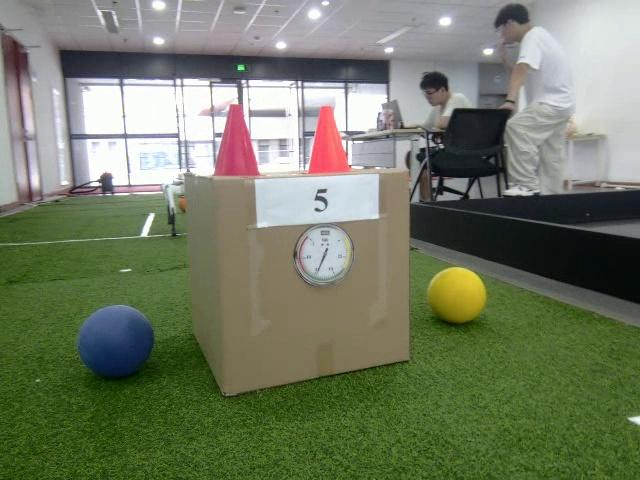5: (314, 188, 329, 214)
Dashboard: (292, 224, 354, 290)
blue_ball: (74, 306, 155, 379)
orange_barrel: (302, 105, 356, 176)
red_barrel: (212, 105, 263, 177)
ssi: (320, 230, 330, 236)
yellow_ball: (426, 268, 486, 324)
